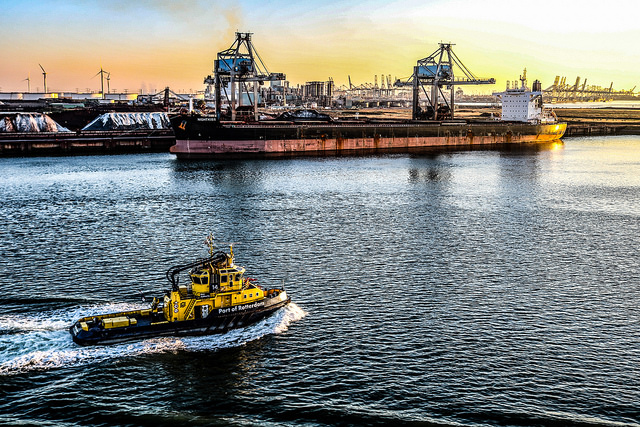tanker: (171, 77, 568, 155)
tug_boat: (69, 243, 292, 333)
